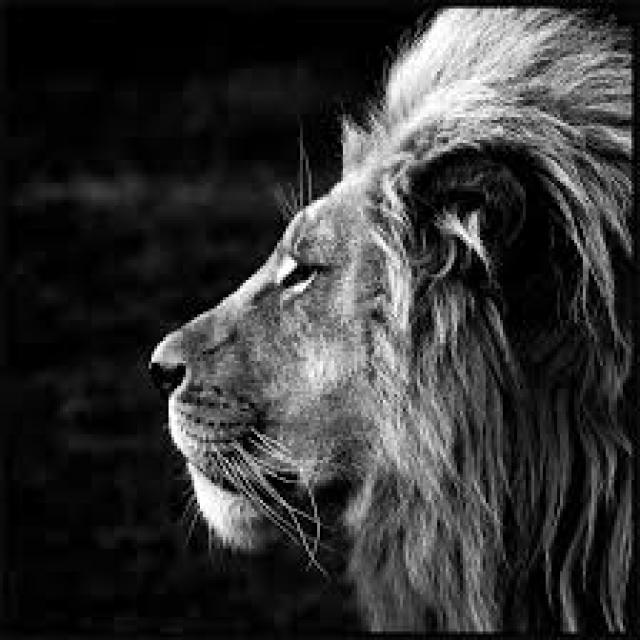Lion: (152, 11, 637, 636)
